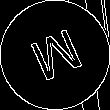M_SE: (24, 23, 86, 87)
